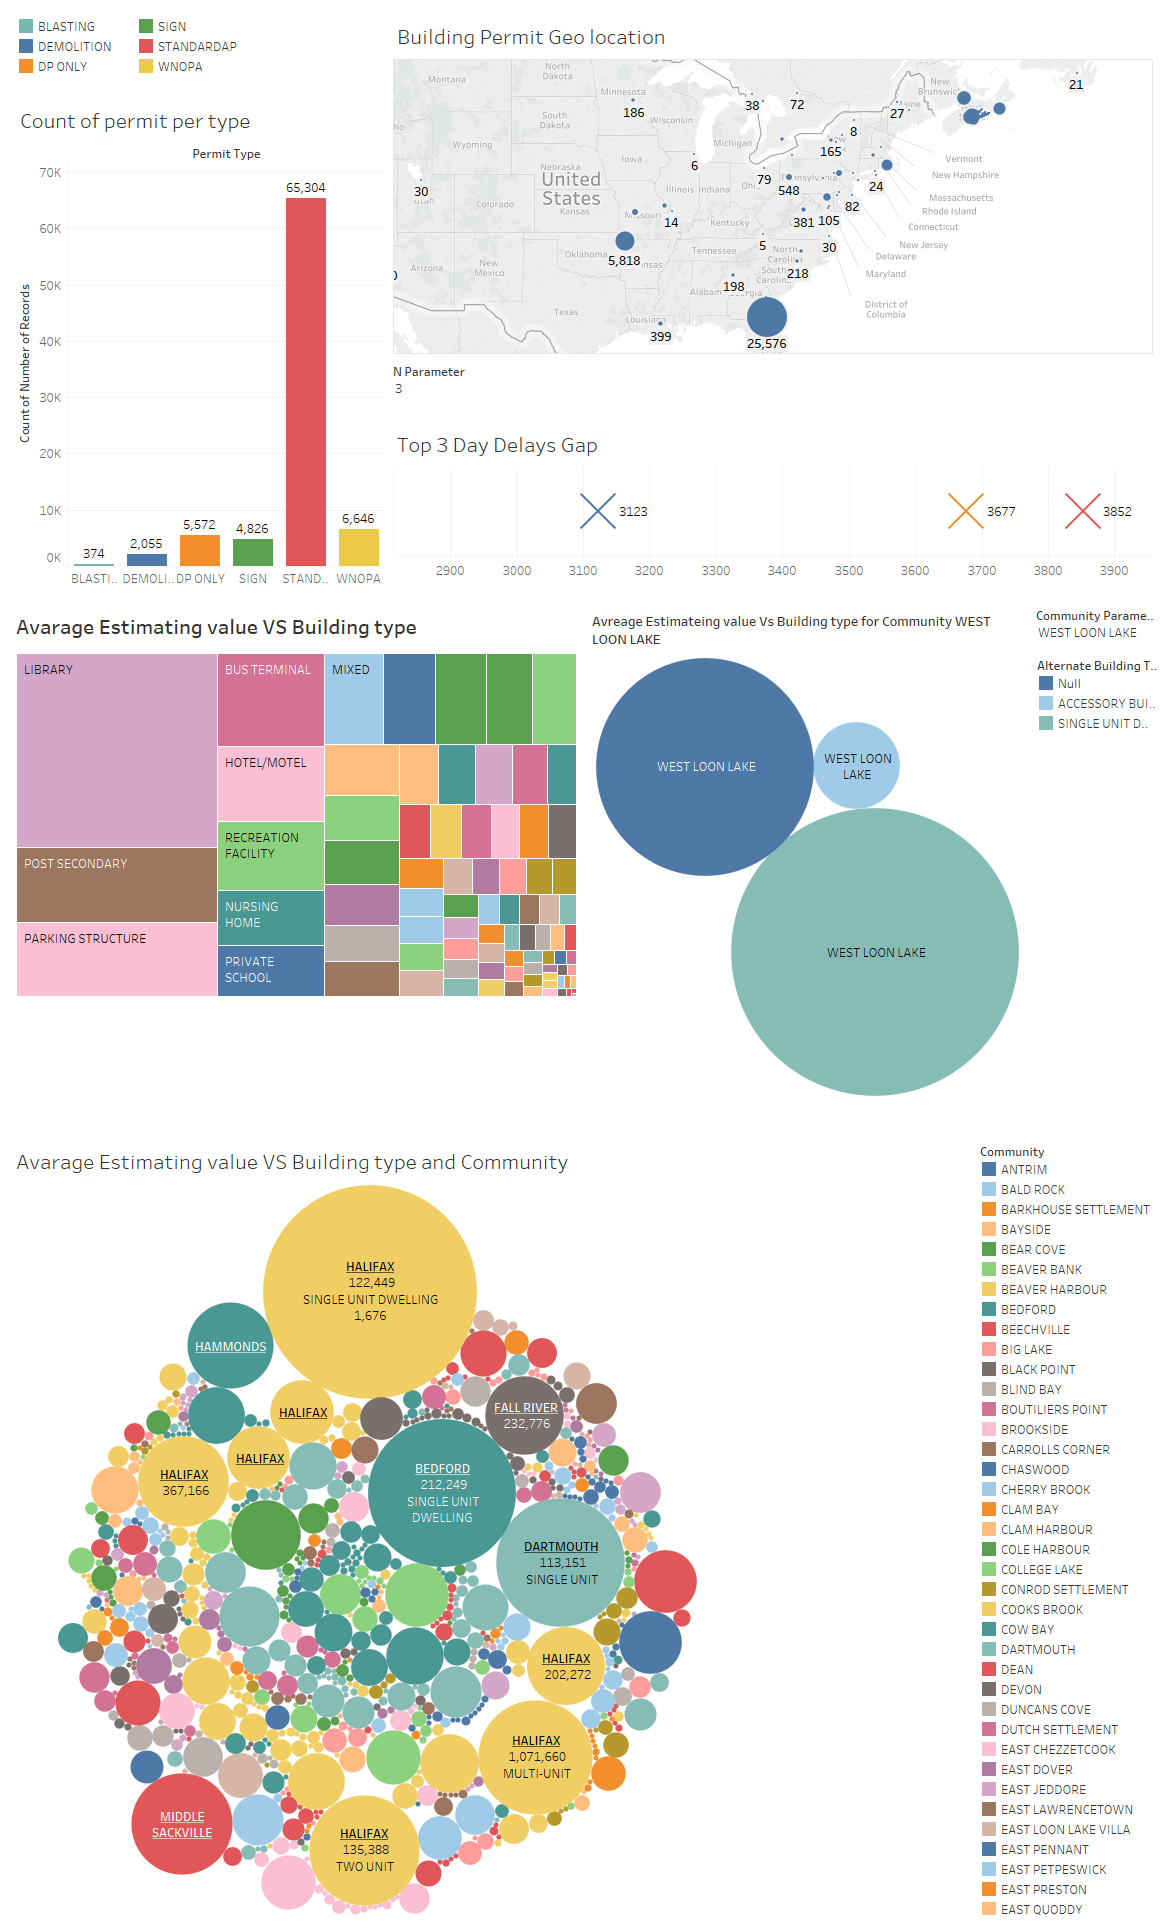

The dashboard page shown, as its layout file describes it:
{"tool":"tableau","page":{"name":"Dashboard 1","canvas":[1169,1927],"ordinal":0},"visuals":[{"type":"legend","title":"Count of permit per type","param":"[federated.1b90uar06biz2k1h0cmdz1bx9m9i].[none:PERMIT_TYPE:nk]","box":[12,12,377,89.1]},{"type":"worksheet","title":"Building Permit Geo location","mark":"Automatic","rows":["Y"],"cols":["X"],"box":[389,12,768,367.5]},{"type":"worksheet","title":"Count of permit per type","mark":"Bar","rows":["Number of Records"],"cols":["PERMIT_TYPE"],"box":[12,101.1,377,532.8]},{"type":"parameter","param":"[Parameters].[Top N Parameter]","box":[389,379.5,768,50]},{"type":"worksheet","title":"Top 3 day delays","mark":"Shape","cols":["Calculation_1372753476326612996"],"box":[389,429.5,768,204.3]},{"type":"worksheet","title":"Avarage Estimating value VS Building type","mark":"Automatic","box":[8,637.9,576.5,568.1]},{"type":"worksheet","title":"Estimate Value VS Permint Type and Community pages","mark":"Circle","box":[584.5,637.9,447.5,568.1]},{"type":"parameter","param":"[Parameters].[Community Parameter]","box":[1032,637.9,129,52.5]},{"type":"legend","title":"Estimate Value VS Permint Type and Community pages","param":"[federated.1b90uar06biz2k1h0cmdz1bx9m9i].[none:ALTERNATE_BUILDING_TYPE:nk]","box":[1032,690.4,129,515.6]},{"type":"worksheet","title":"Avarage Estimating value VS Building type and Community ","mark":"Circle","box":[8,1206,967.2,713]},{"type":"legend","title":"Avarage Estimating value VS Building type and Community ","param":"[federated.1b90uar06biz2k1h0cmdz1bx9m9i].[none:COMMUNITY:nk]\n[federated.1b90uar0","box":[975.2,1206,185.8,713]}]}

Visuals, with their boxes in screenshot pixels (x1, y1, x2, y2), scaled from the page's 1169x1927 canvas onto the 1169x1927 screenshot:
"Count of permit per type" legend: (left=12, top=12, right=389, bottom=101)
"Building Permit Geo location" worksheet: (left=389, top=12, right=1157, bottom=380)
"Count of permit per type" worksheet (Bar marks): (left=12, top=101, right=389, bottom=634)
parameter: (left=389, top=380, right=1157, bottom=430)
"Top 3 day delays" worksheet (Shape marks): (left=389, top=430, right=1157, bottom=634)
"Avarage Estimating value VS Building type" worksheet: (left=8, top=638, right=584, bottom=1206)
"Estimate Value VS Permint Type and Community pages" worksheet (Circle marks): (left=584, top=638, right=1032, bottom=1206)
parameter: (left=1032, top=638, right=1161, bottom=690)
"Estimate Value VS Permint Type and Community pages" legend: (left=1032, top=690, right=1161, bottom=1206)
"Avarage Estimating value VS Building type and Community " worksheet (Circle marks): (left=8, top=1206, right=975, bottom=1919)
"Avarage Estimating value VS Building type and Community " legend: (left=975, top=1206, right=1161, bottom=1919)
